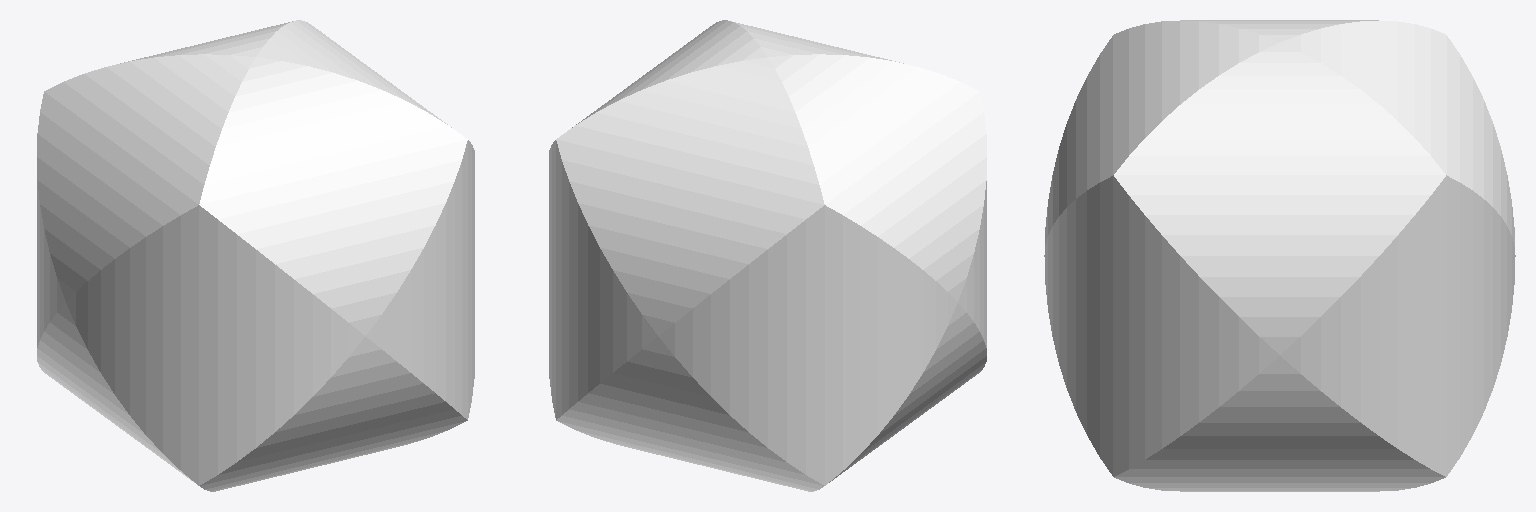
The robot description file, URDF, robot "tricylinder":
<?xml version="1.0" ?>
<robot name="tricylinder">
  <link name="tricylinderLink">
  <contact>
      <lateral_friction value="1"/>
  </contact>
    <inertial>
      <origin rpy="0 0 0" xyz="0 0 0"/>
       <mass value=".02"/>
       <inertia ixx="0.077531" ixy="0" ixz="0" iyy="0.088607" iyz="0" izz="0.077531 "/>
    </inertial>
    <visual>
      <origin rpy="0 0 0" xyz="0 0 0"/>
      <geometry>
				<mesh filename="tricylinder.obj" scale="1 1 1"/>
      </geometry>
       <material name="white">
        <color rgba="1 1 1 1"/>
      </material>
    </visual>
    <collision>
      <origin rpy="0 0 0" xyz="0 0 0"/>
      <geometry>
	 	<mesh filename="tricylinder.obj" scale="1 1 1"/>
      </geometry>
    </collision>
  </link>
</robot>

--- Facts derived from the render (not from the file) ---
3 views of the same robot in one strip: view 1: azimuth 30°, elevation 25°; view 2: azimuth 150°, elevation 25°; view 3: azimuth 270°, elevation 25° (orthographic).
Robot: tricylinder — 1 links, 0 joints (none); root link tricylinderLink; default pose: all joints at 0.
Links seen in each view (by area): view 1: tricylinderLink; view 2: tricylinderLink; view 3: tricylinderLink.
Link boxes in pixels (left/top/right/bottom): tricylinderLink: left=37, top=20, right=474, bottom=491; tricylinderLink: left=549, top=20, right=986, bottom=491; tricylinderLink: left=1044, top=20, right=1515, bottom=491.
Size in the robot's own frame: 1 by 1 by 1 metres.
Meshes: 1 distinct files referenced, 1 mesh visuals loaded (1 OBJ).
